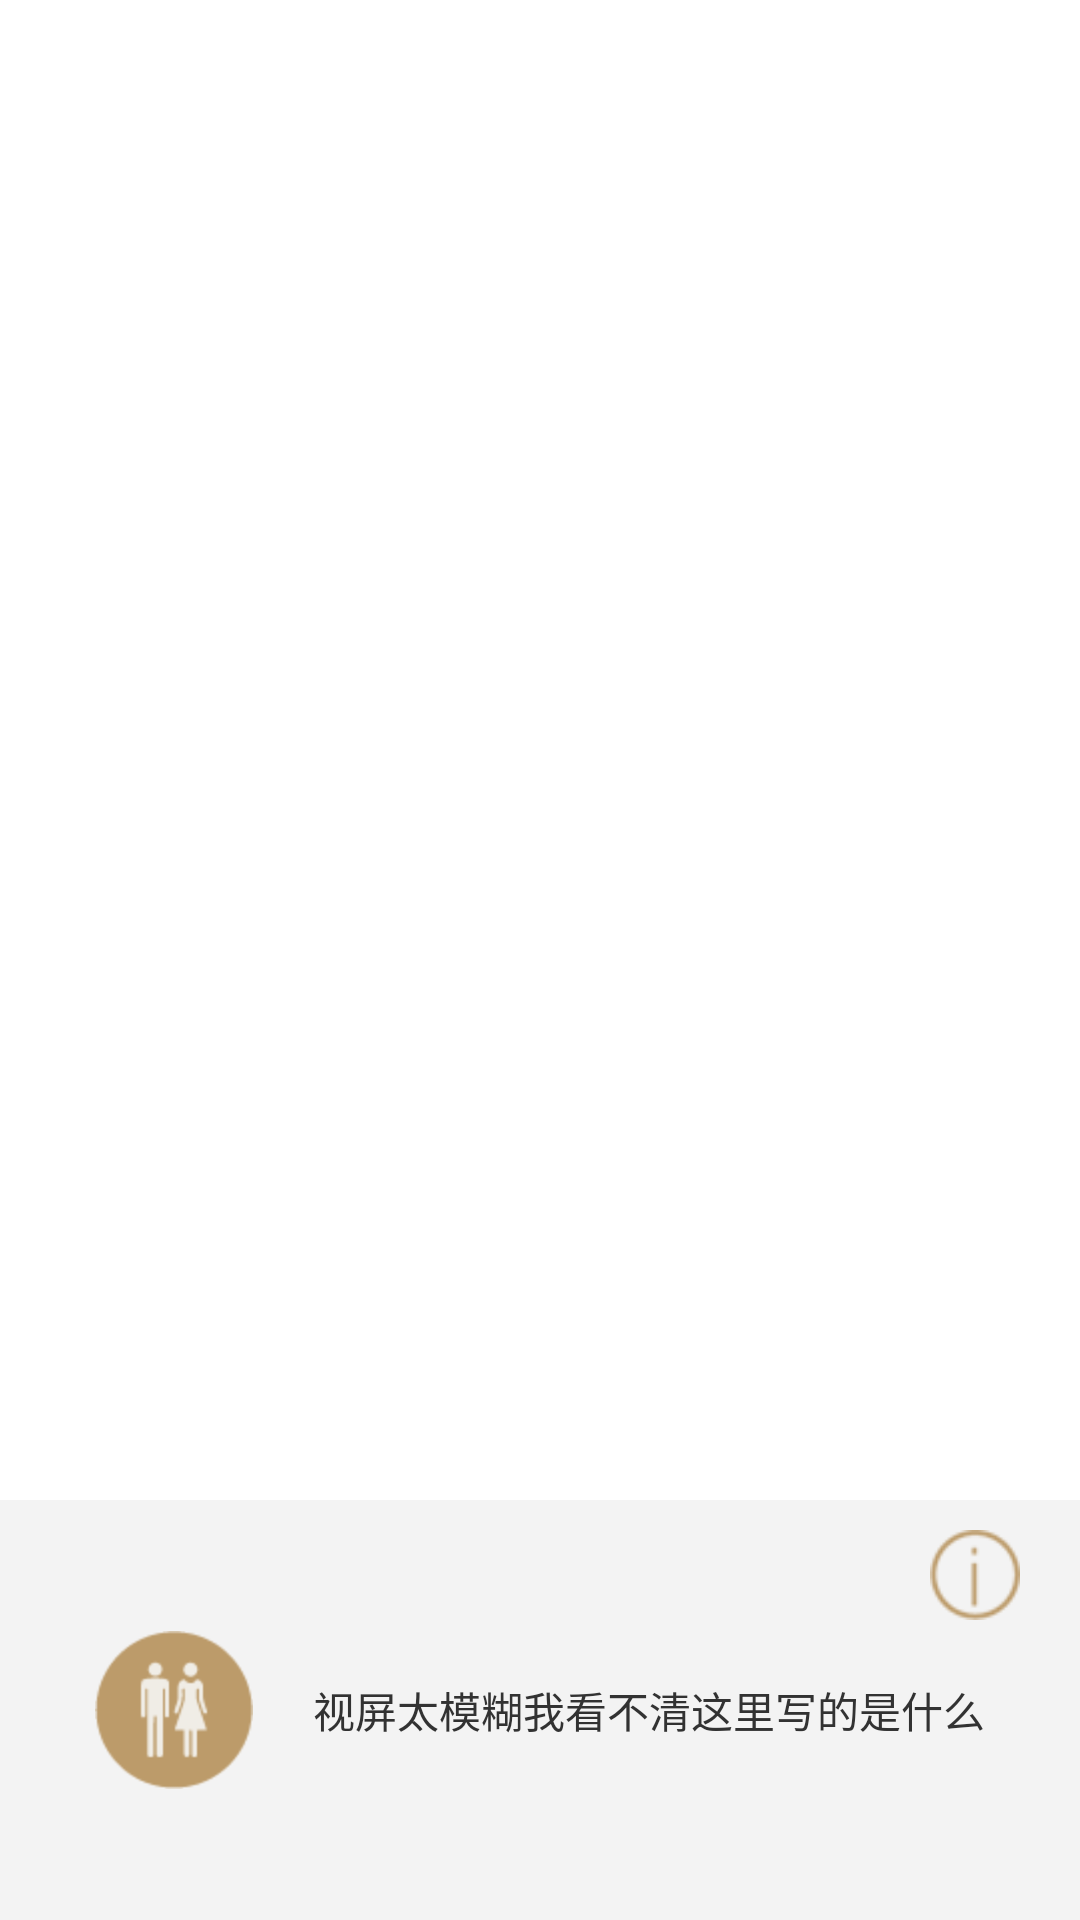

Named icons in this screenshot (1080×1920) and their centers, [x,y]:
info: [975,1575]
